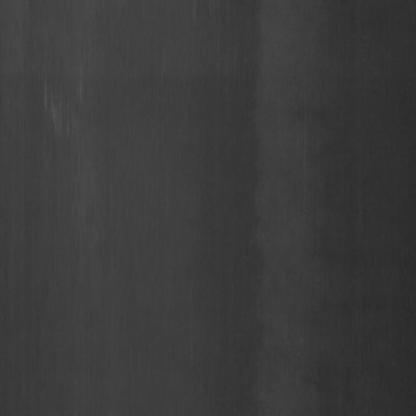silk_spot: (38, 76, 92, 155), (284, 90, 322, 168)
